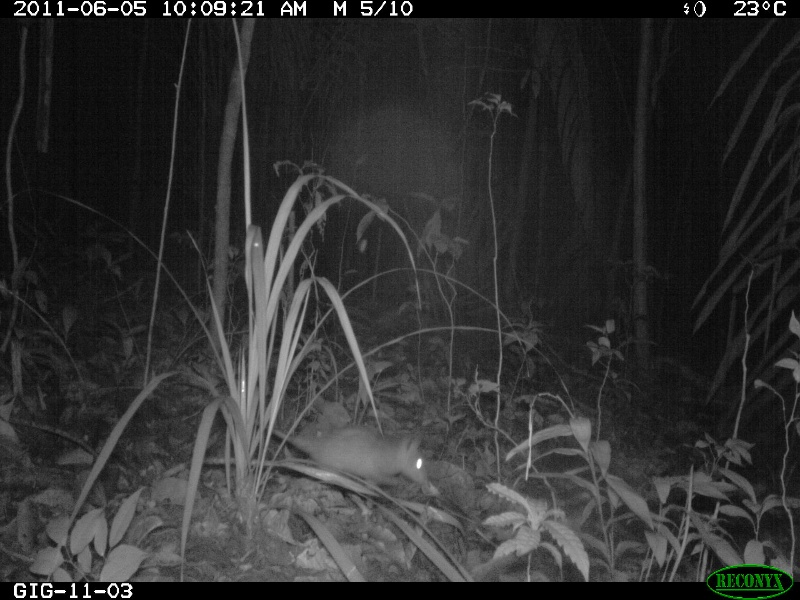opossum: (252, 412, 434, 499)
